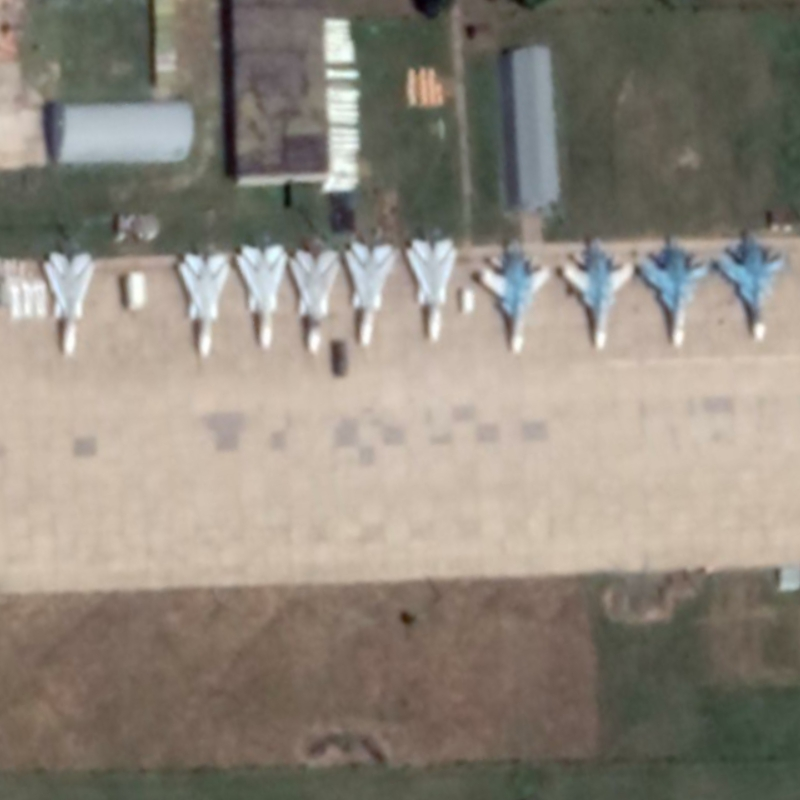A19: (559, 236, 636, 353), (477, 237, 551, 356), (713, 230, 789, 343), (638, 233, 712, 349)
A20: (174, 250, 233, 361), (402, 235, 460, 344), (234, 241, 290, 352), (39, 250, 96, 359), (343, 239, 397, 350), (289, 247, 342, 356)
